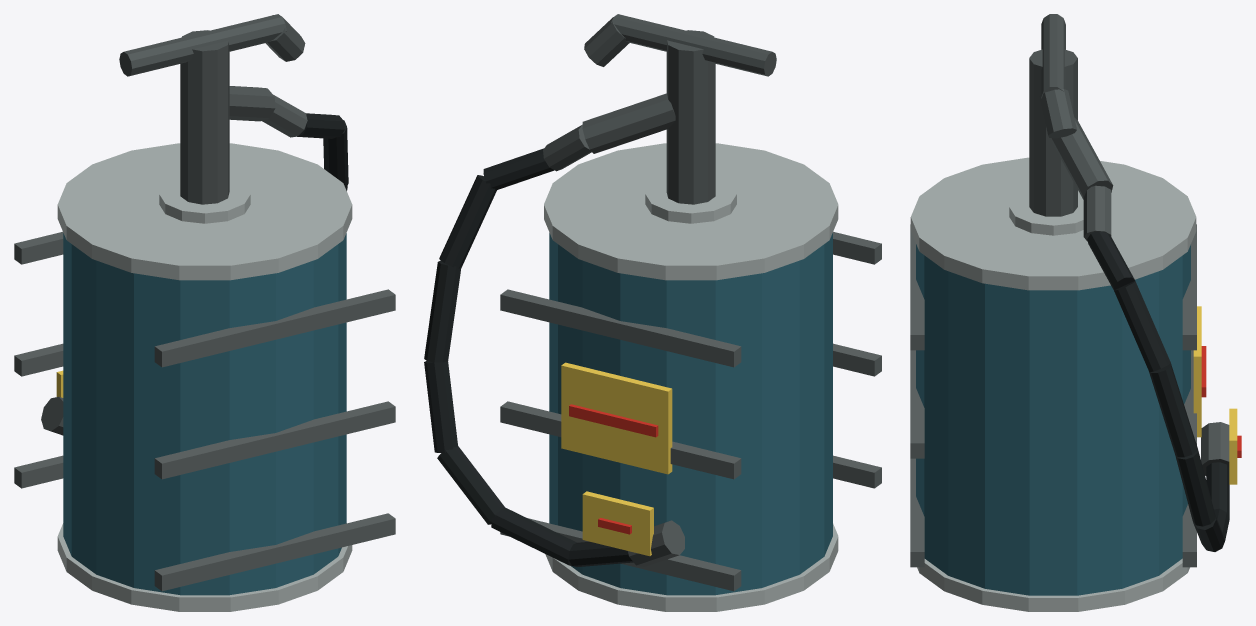
Rendered from HomebaseFuelDrum_LOD00.gltf.
The picture shows the model from 3 angles, left to right: view 1: azimuth 30°, elevation 25°; view 2: azimuth 150°, elevation 25°; view 3: azimuth 270°, elevation 25°; orthographic projection. The views are drawn at different scales.
Parts seen in each view (by area): view 1: HomebaseFuelDrum_node; view 2: HomebaseFuelDrum_node; view 3: HomebaseFuelDrum_node.
Part boxes in pixels (x1=…): HomebaseFuelDrum_node: x1=14, y1=14, x2=395, y2=611; HomebaseFuelDrum_node: x1=424, y1=14, x2=881, y2=611; HomebaseFuelDrum_node: x1=910, y1=14, x2=1241, y2=611.
Size of the model in its own units: 0.8137 by 1.33 by 0.747.
